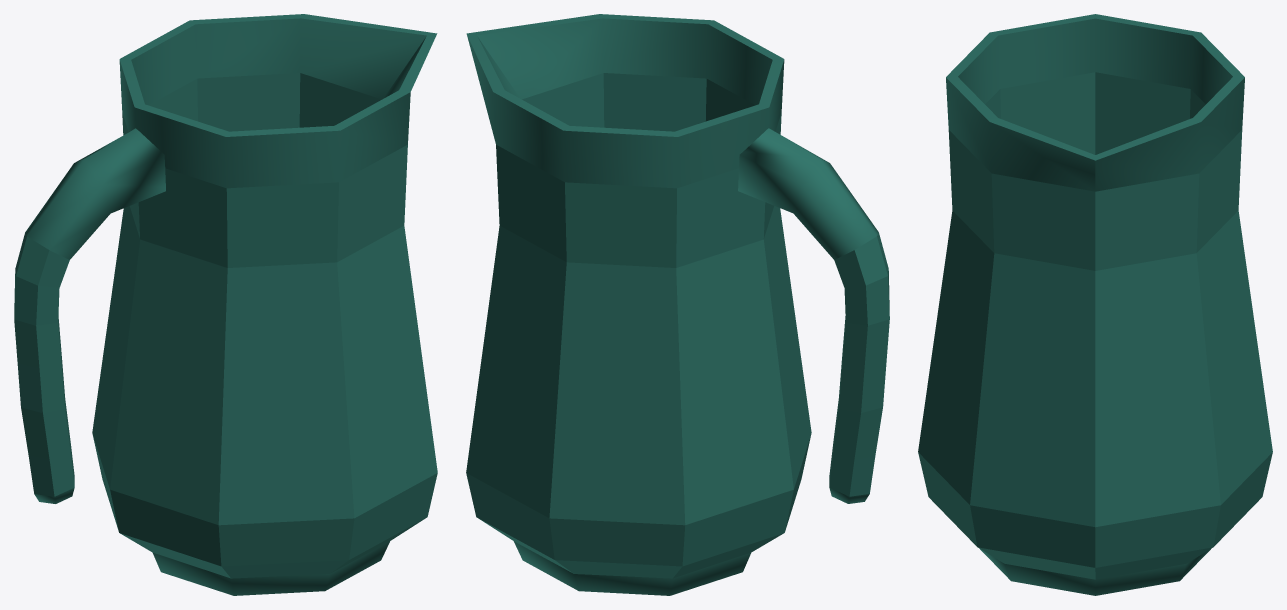
The model's file is SM_glassware_08.fbx.
The picture shows the model from 3 angles, left to right: view 1: azimuth 30°, elevation 25°; view 2: azimuth 150°, elevation 25°; view 3: azimuth 270°, elevation 25°; orthographic projection.
Parts seen in each view (by area): view 1: glassware_08; view 2: glassware_08; view 3: glassware_08.
Part boxes in pixels (x1,y1,x2,y2): glassware_08: (14,14,437,595); glassware_08: (466,14,889,595); glassware_08: (918,14,1272,595).
Bounding box in the file's own units: 28.82 × 31.25 × 21.08.
